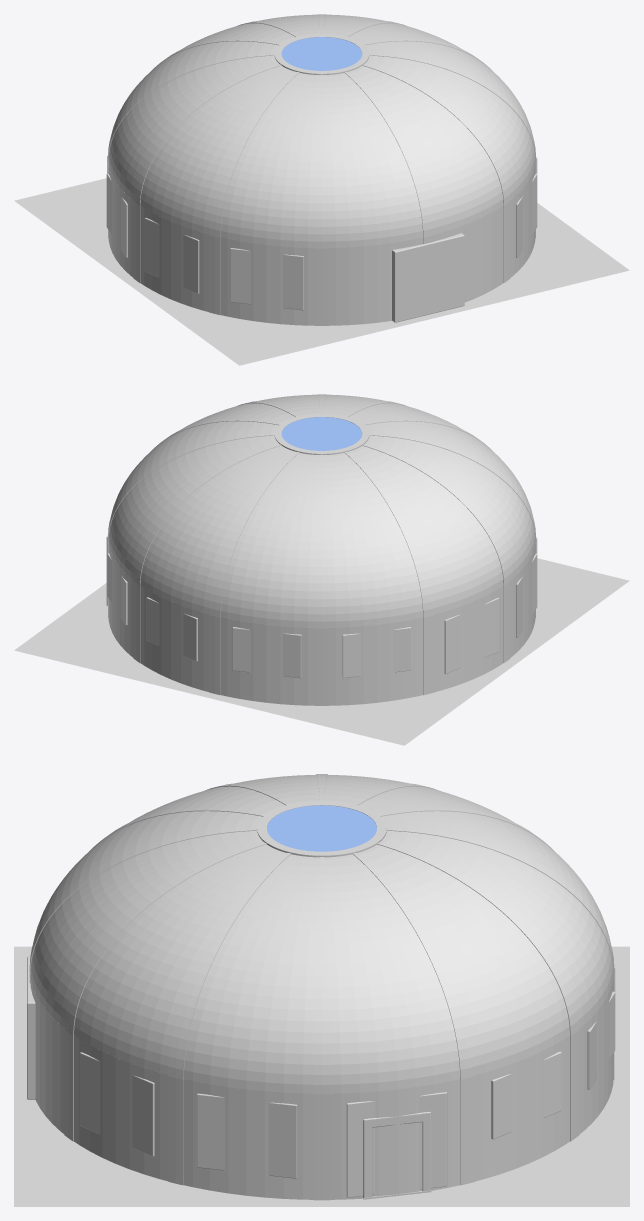
File: room.glb
3 renders of one model, top to bottom at view 1: azimuth 30°, elevation 25°; view 2: azimuth 150°, elevation 25°; view 3: azimuth 270°, elevation 25°, orthographic. The views are drawn at different scales.
Visible parts, largest first — view 1: archC, archL, floorN, archR, EM_static; view 2: archC, archL, floorN, archR, EM_static; view 3: archC, archL, archR, floorN, EM_static.
Part boxes in pixels (bbox=[...]): archC: bbox=[108, 14, 535, 247]; archL: bbox=[106, 155, 537, 325]; floorN: bbox=[14, 178, 629, 365]; archR: bbox=[108, 14, 535, 325]; EM_static: bbox=[281, 37, 362, 70]; archC: bbox=[108, 394, 535, 627]; archL: bbox=[106, 535, 537, 705]; floorN: bbox=[14, 558, 629, 745]; archR: bbox=[108, 394, 535, 705]; EM_static: bbox=[281, 417, 362, 450]; archC: bbox=[30, 775, 613, 1093]; archL: bbox=[27, 956, 615, 1199]; archR: bbox=[29, 774, 614, 1200]; floorN: bbox=[14, 946, 629, 1206]; EM_static: bbox=[267, 805, 376, 851].
Size of the model in its own units: 19 by 8.45 by 19.
